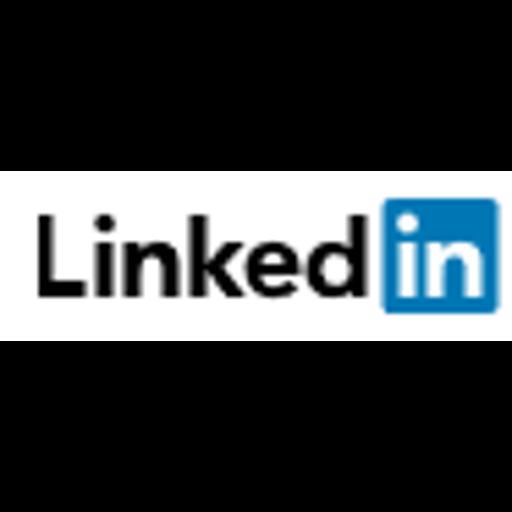LinkedIn Corporation: (0, 171, 512, 341)
